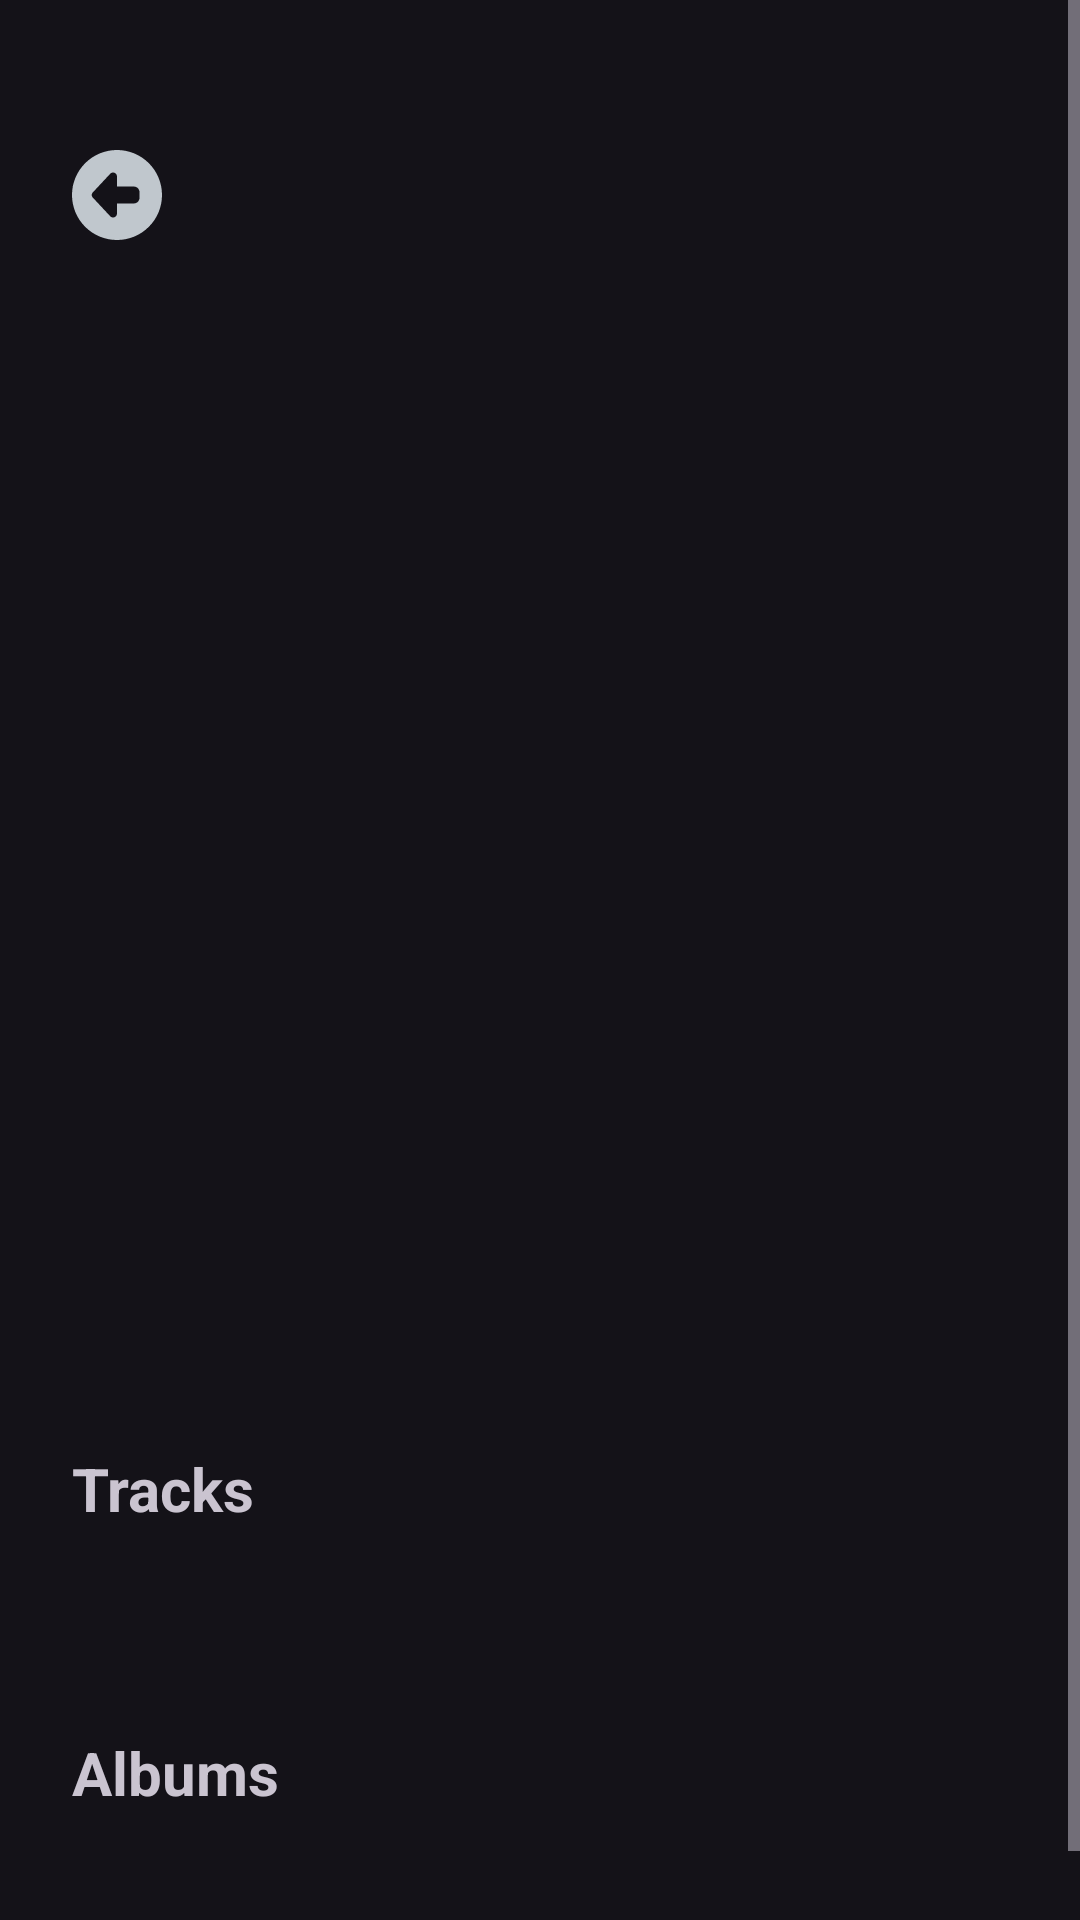

Locate icon controls on the screen. Image size 1080x1920, boxes as (x1, y1, x2, y2).
back: (72, 150, 162, 240)
